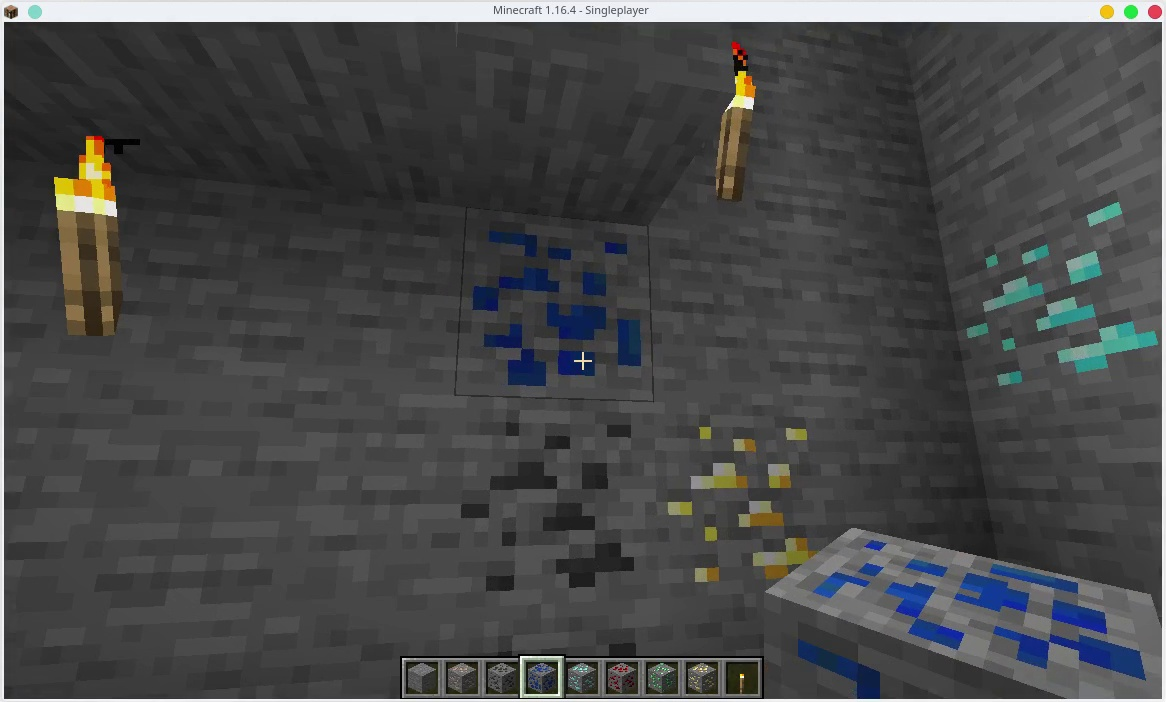gold: (662, 424, 812, 567), (687, 659, 716, 692)
